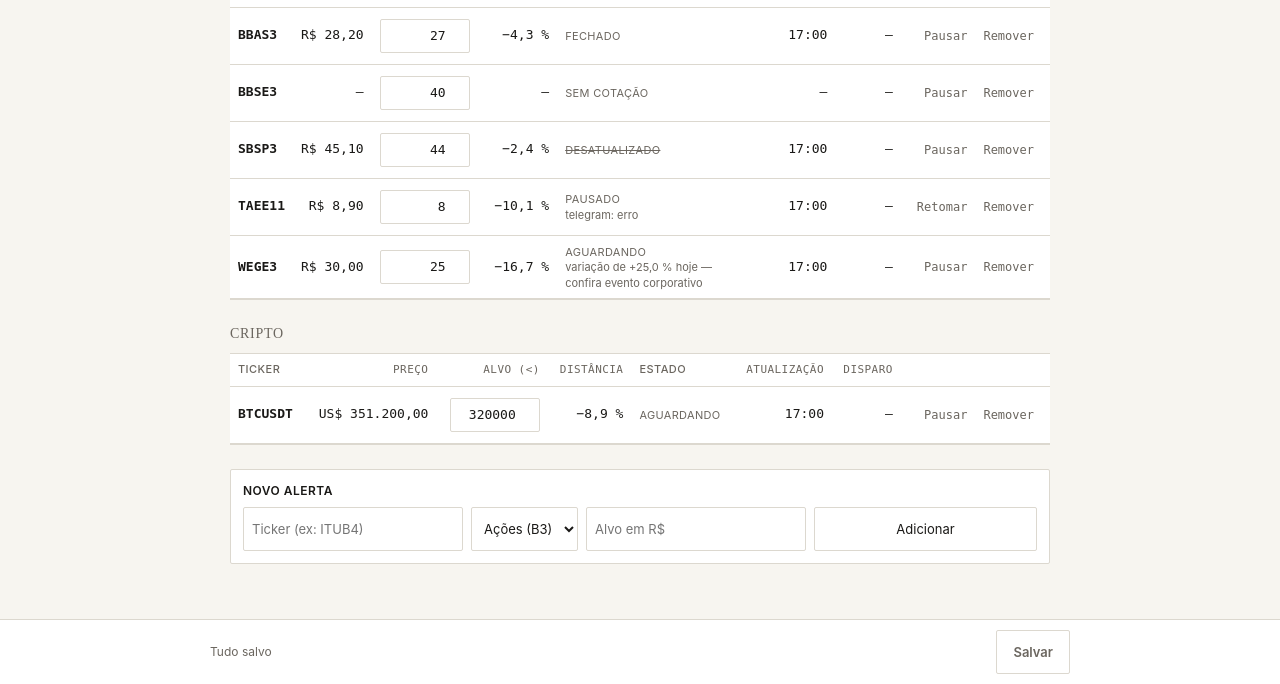
AlertsPage — mutações da lista (UI-01) › adicionar com símbolo duplicado → erro inline 'Este ticker já está na lista.' (nunca alert()), sem adicionar
(page scrolled)
Type "petr4" into the field named "Novo ticker".
click(353, 529); type("petr4")  # box x1=243 y1=507 x2=463 y2=551
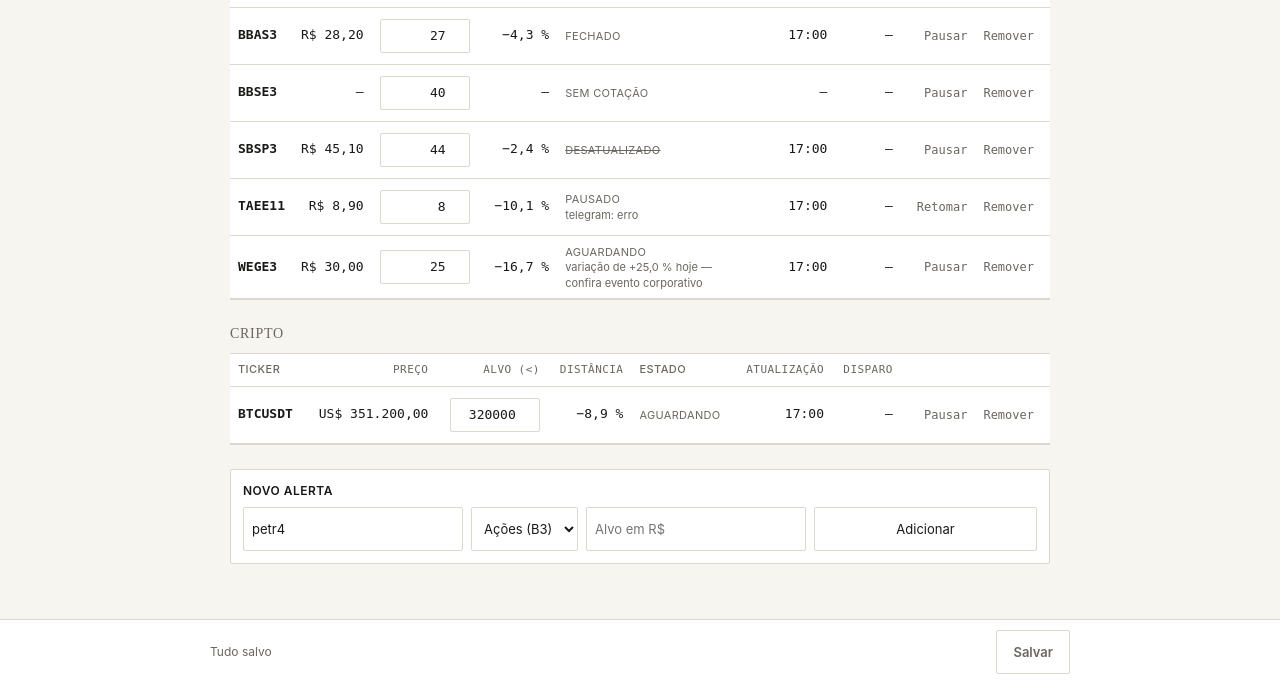
Select "Ações (B3)" in the dropdown named "Mercado" at (524, 529), box x1=471 y1=507 x2=578 y2=551
Type "30" into the number field named "Novo alvo".
click(696, 529); type("30")  # box x1=586 y1=507 x2=806 y2=551
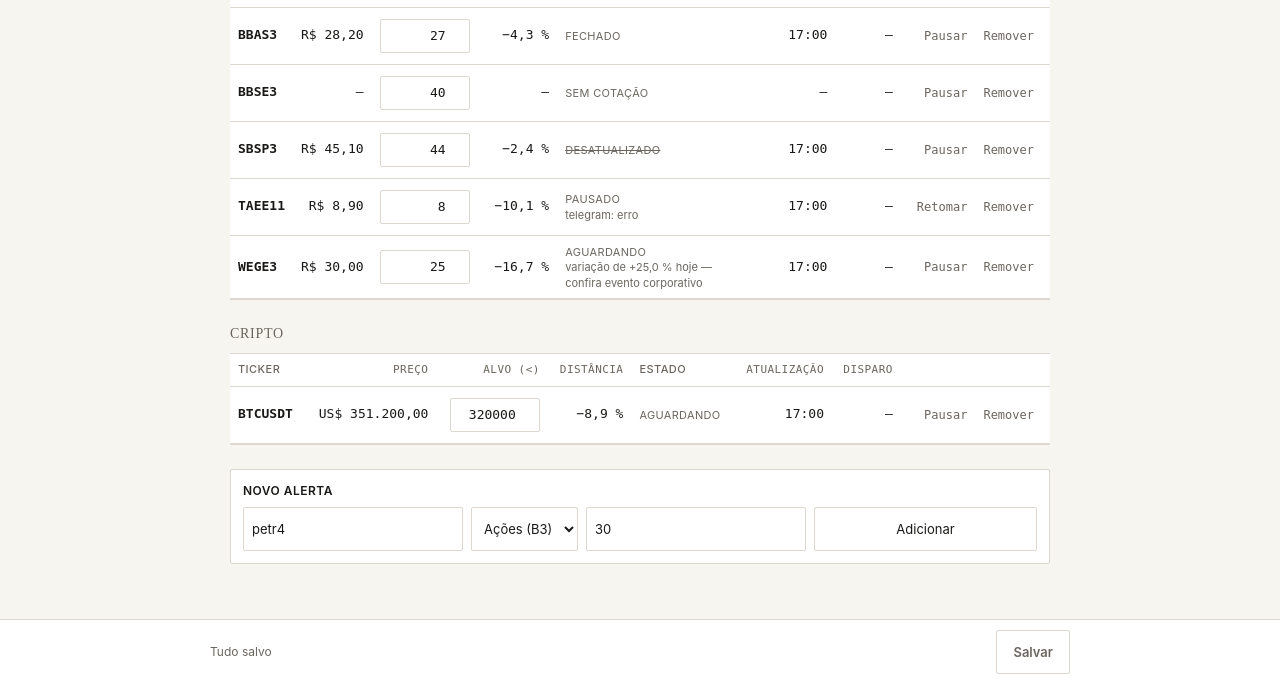
Click the button "Adicionar".
click(926, 529)  # box x1=814 y1=507 x2=1037 y2=551
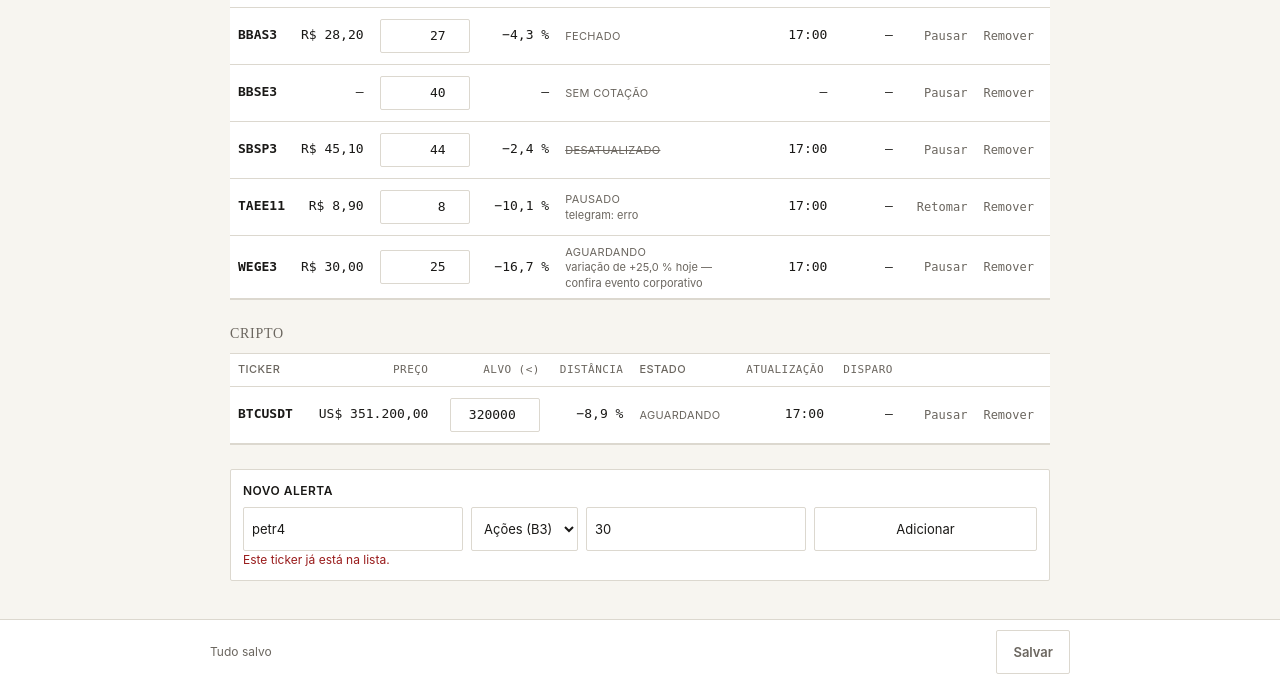
Expected: the text "Este ticker já está na lista." is shown, x1=243 y1=552 x2=390 y2=567
